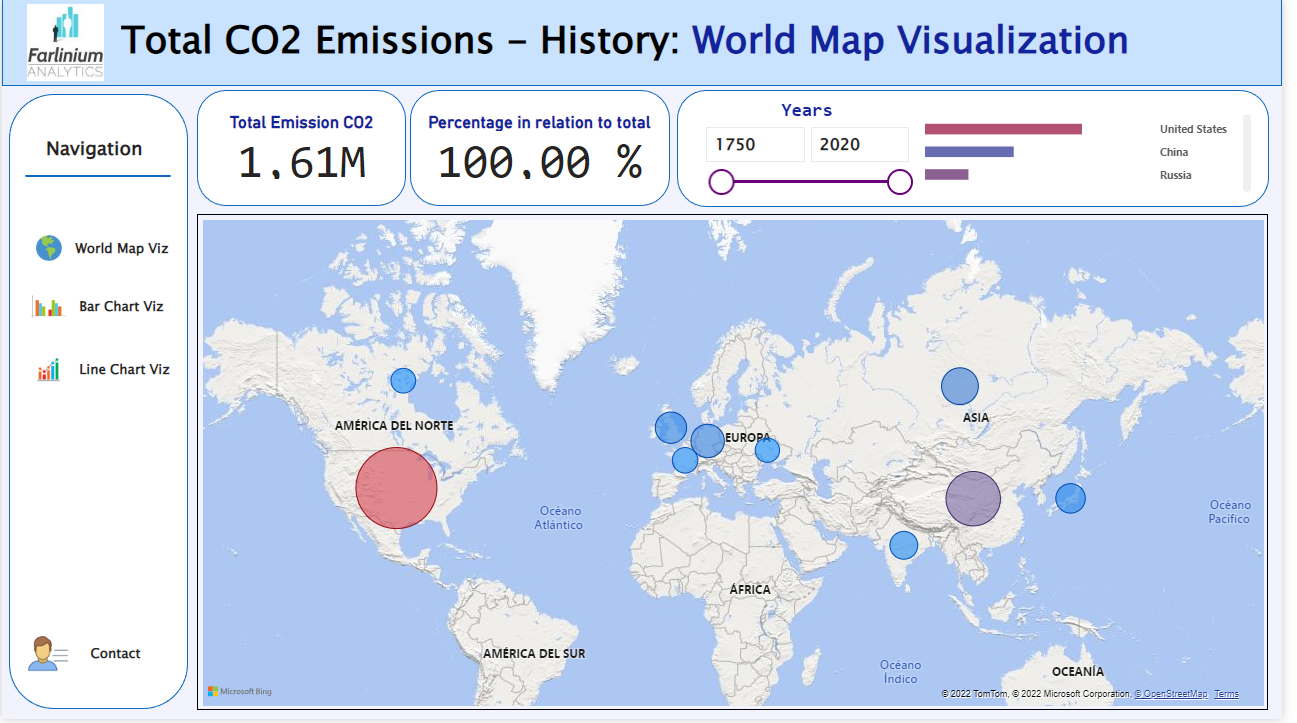

What the dashboard file says about the page in this screenshot:
{"tool":"powerbi","page":{"name":"World Map","canvas":[1280,720],"ordinal":0},"visuals":[{"type":"shape","box":[0,0,1280,87],"z":0},{"type":"image","box":[0,0,126,87],"z":1000},{"type":"shape","box":[195.3,91.2,208.8,115.9],"z":2000},{"type":"textbox","box":[114,8,1153,79],"z":3000},{"type":"shape","box":[408.2,91.2,260,115.9],"z":4000},{"type":"map","fields":{"Category":["countries_co2_history (2).country"],"Size":["Sum(countries_co2_history (2).co2)"]},"box":[195.5,214.5,1070.9,496.4],"z":5000},{"type":"card","title":"Total Emission CO2","fields":{"Values":["Sum(countries_co2_history (2).co2)"]},"box":[217,113,165,72],"z":6000},{"type":"card","title":"Percentage in relation to total","fields":{"Values":["countries_co2_history (2).percentage_co2"]},"box":[412,113,251,72],"z":7000},{"type":"shape","box":[675,91,592,117],"z":8000},{"type":"group","id":"g1","title":"Group 1","box":[690.9,95.5,227.3,110],"z":9000},{"type":"slicer","fields":{"Values":["Calendar.Date.Variation.Date Hierarchy.Year"]},"box":[690.9,118.5,227.9,87.7],"z":9000,"group":"g1"},{"type":"clusteredBarChart","fields":{"Category":["countries_co2_history (2).country"],"Y":["Sum(countries_co2_history (2).co2)"]},"box":[917.9,101.4,336.4,96.4],"z":10000},{"type":"shape","box":[7,95,179,615],"z":11000},{"type":"textbox","box":[763.9,95.5,81.9,47],"z":11000,"group":"g1"},{"type":"textbox","box":[62.7,233.6,114.5,30.9],"z":12000},{"type":"image","box":[27.7,230.8,37.7,36.2],"z":13000},{"type":"textbox","box":[38.9,131.3,114.8,46.7],"z":14000},{"type":"image","box":[18.6,341.4,55.7,57.6],"z":15000},{"type":"textbox","box":[61.9,291.9,115,31.2],"z":16000},{"type":"textbox","box":[65.2,354.8,115.2,32.4],"z":17000},{"type":"image","box":[21.9,273.1,49.4,68.1],"z":18000},{"type":"shape","box":[22.7,155.5,146.4,43.6],"z":19000},{"type":"image","box":[20,629,52,52],"z":20000},{"type":"textbox","box":[56,639,115,32],"z":21000}]}

Visuals, with their boxes in screenshot pixels (x1, y1, x2, y2), scaled from the page's 1280x720 canvas onto the 1297x723 screenshot:
shape: [0,0,1296,87]
image: [0,0,128,87]
shape: [198,92,409,208]
textbox: [116,8,1284,87]
shape: [414,92,677,208]
map - countries_co2_history (2).country x Sum(countries_co2_history (2).co2): [198,215,1283,714]
"Total Emission CO2" card: [220,113,387,186]
"Percentage in relation to total" card: [417,113,672,186]
shape: [684,91,1284,209]
"Group 1" group: [700,96,930,206]
slicer - Calendar.Date.Variation.Date Hierarchy.Year: [700,119,931,207]
clusteredBarChart - countries_co2_history (2).country x Sum(countries_co2_history (2).co2): [930,102,1271,199]
shape: [7,95,188,713]
textbox: [774,96,857,143]
textbox: [64,235,180,266]
image: [28,232,66,268]
textbox: [39,132,156,179]
image: [19,343,75,401]
textbox: [63,293,179,324]
textbox: [66,356,183,389]
image: [22,274,72,343]
shape: [23,156,171,200]
image: [20,632,73,684]
textbox: [57,642,173,674]
